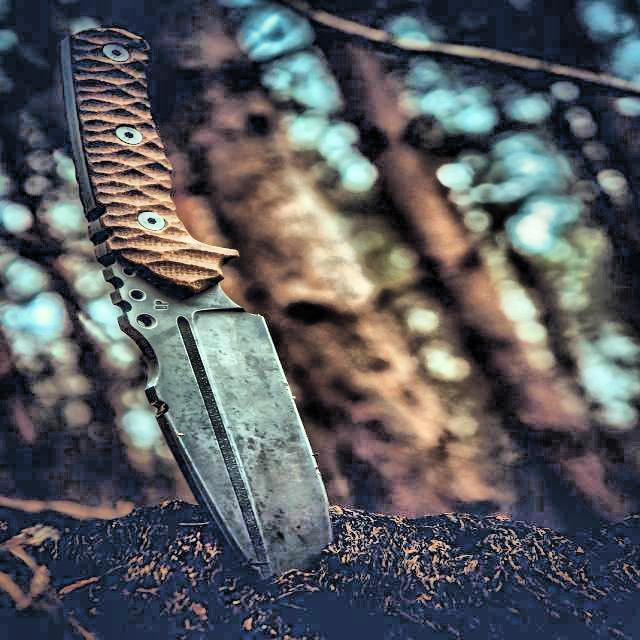knife: (47, 15, 344, 579)
